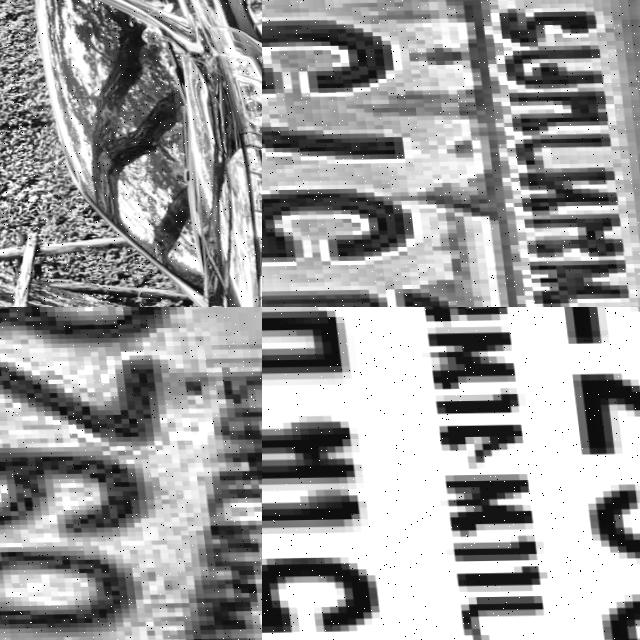license-plate: (262, 307, 640, 640), (262, 0, 640, 307), (0, 307, 262, 640)
